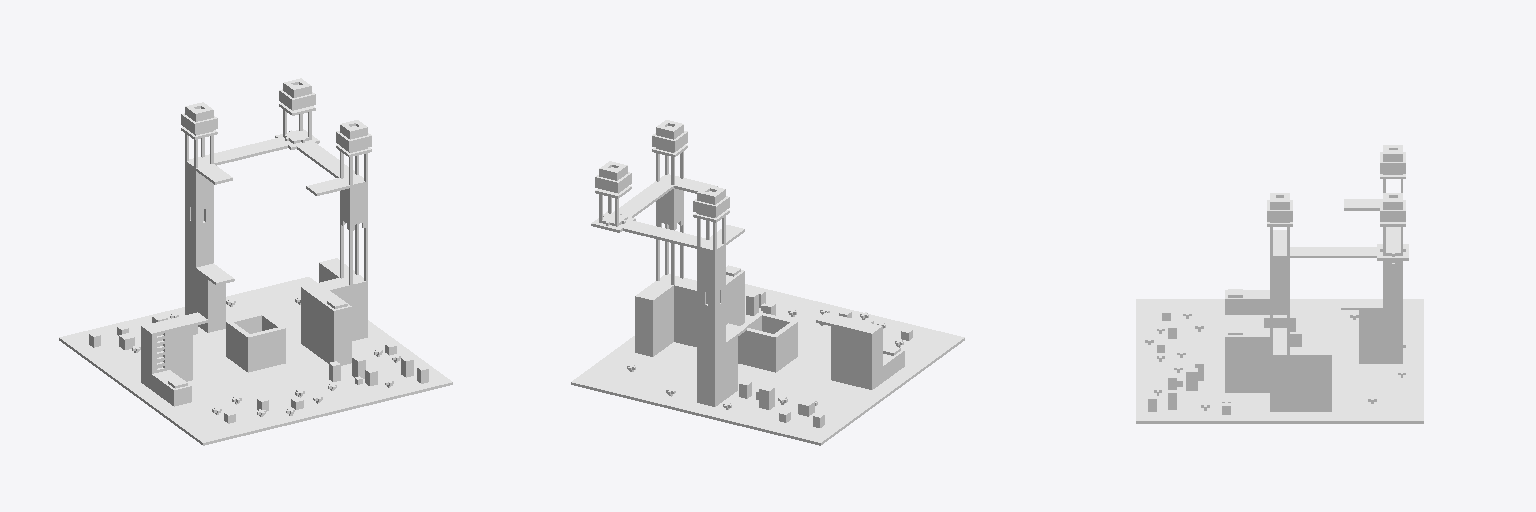
File: monu9-nopillar.obj
3 renders of one model, left to right at view 1: azimuth 30°, elevation 25°; view 2: azimuth 150°, elevation 25°; view 3: azimuth 270°, elevation 25°, orthographic.
Size of the model in its own units: 97 by 79 by 97.